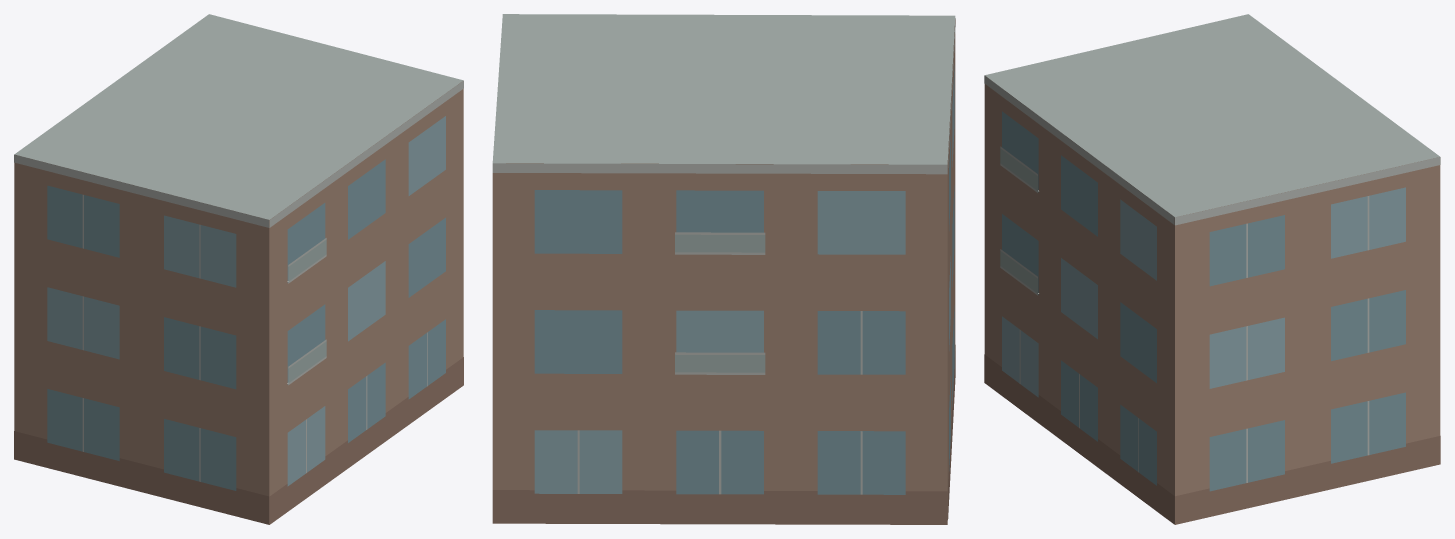
File: survey-upis-32710280.glb
3 views of the same model, side by side, from view 1: azimuth 30°, elevation 25°; view 2: azimuth 150°, elevation 25°; view 3: azimuth 270°, elevation 25° (orthographic). The views are drawn at different scales.
Visible parts, largest first — view 1: survey-upis-32710280.tmp; view 2: survey-upis-32710280.tmp; view 3: survey-upis-32710280.tmp.
Boxes of the visible parts, x1,y1,x2,y2 form: survey-upis-32710280.tmp: (14, 14, 463, 524); survey-upis-32710280.tmp: (492, 14, 955, 524); survey-upis-32710280.tmp: (984, 14, 1440, 524).
Bounding box in the file's own units: 12.98 × 9.15 × 12.3.
